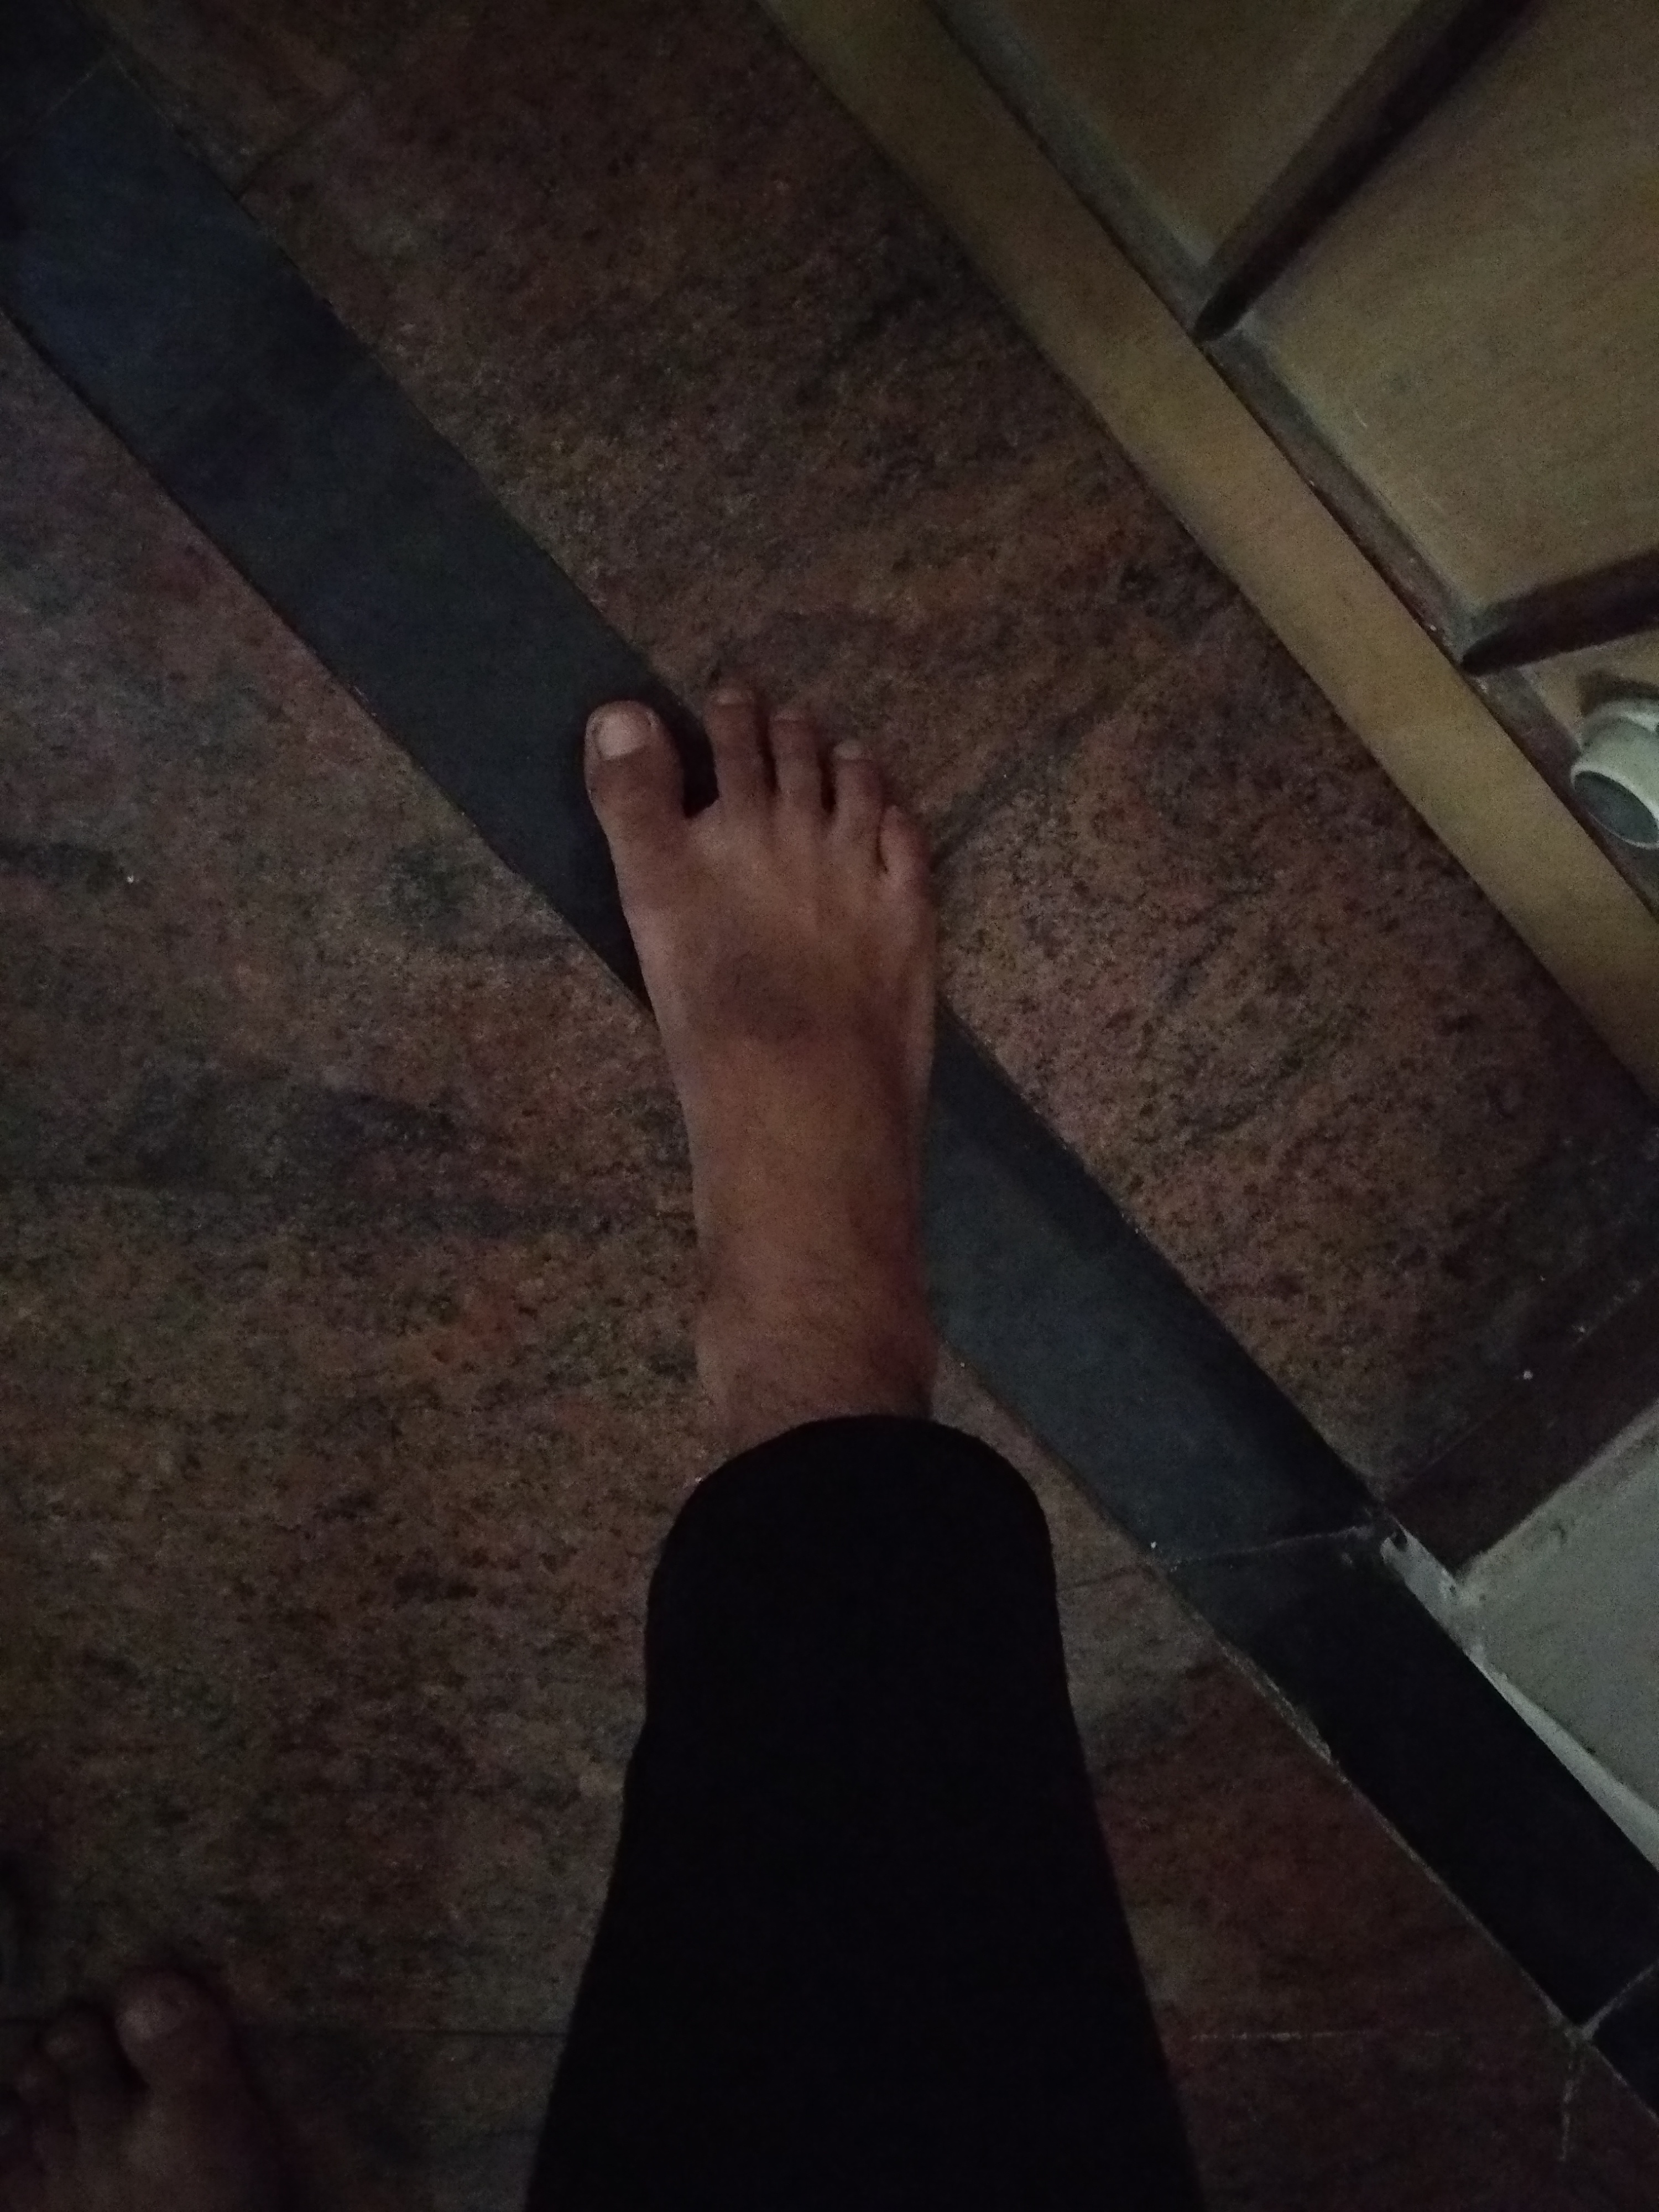feet: (481, 631, 1002, 1449)
